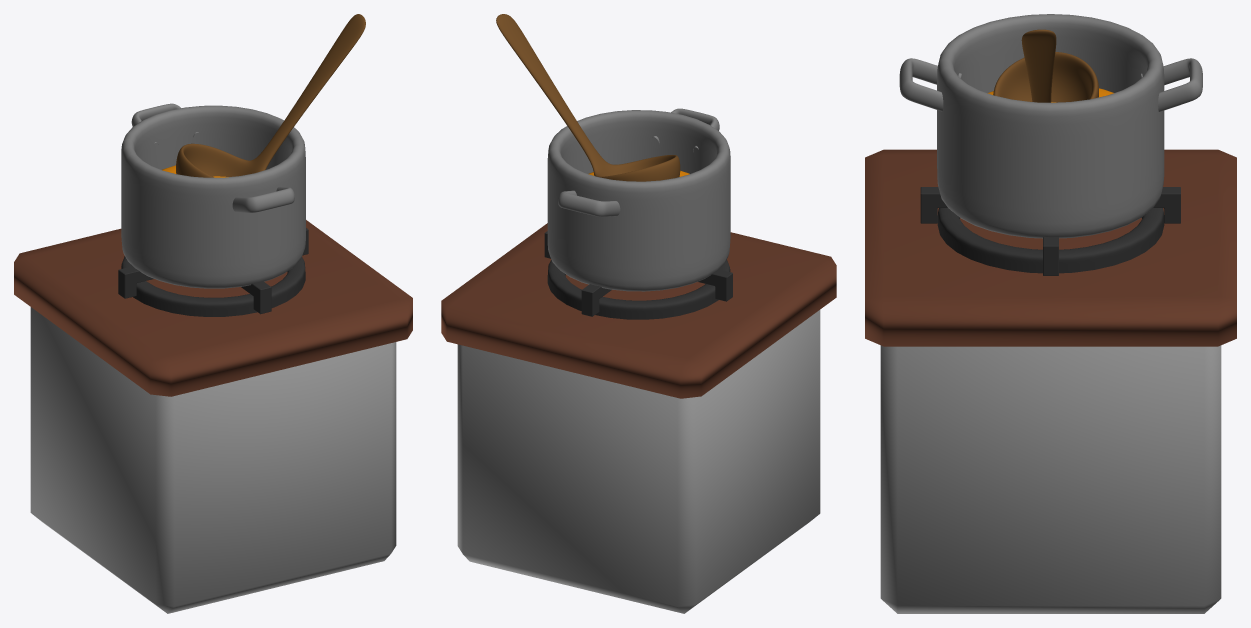
The model's file is ramentower.fbx.
The picture shows the model from 3 angles, left to right: view 1: azimuth 30°, elevation 25°; view 2: azimuth 150°, elevation 25°; view 3: azimuth 270°, elevation 25°; orthographic projection. The views are drawn at different scales.
Parts seen in each view (by area): view 1: Cube, Cube.001, Pot, Sphere, Circle.001, Handle, Cube.002, Cube.005; view 2: Cube, Cube.001, Pot, Sphere, Circle.001, Handle.001, Cube.002, Cube.004; view 3: Cube, Cube.001, Pot, Circle.001, Sphere, Handle.001, Handle, Cube.005, Cube.004, Cube.003.
Part boxes in pixels (left/top/right/bottom): Cube: left=30, top=307, right=396, bottom=613; Cube.001: left=14, top=220, right=412, bottom=396; Pot: left=121, top=105, right=305, bottom=288; Sphere: left=176, top=14, right=365, bottom=177; Circle.001: left=121, top=256, right=305, bottom=316; Handle: left=232, top=186, right=294, bottom=212; Cube.002: left=118, top=266, right=153, bottom=298; Cube.005: left=241, top=281, right=271, bottom=314; Cube: left=457, top=310, right=820, bottom=613; Cube.001: left=441, top=223, right=836, bottom=398; Pot: left=547, top=110, right=730, bottom=291; Sphere: left=496, top=14, right=680, bottom=181; Circle.001: left=547, top=259, right=730, bottom=319; Handle.001: left=558, top=190, right=620, bottom=216; Cube.002: left=698, top=269, right=732, bottom=301; Cube.004: left=581, top=284, right=611, bottom=316; Cube: left=880, top=345, right=1221, bottom=613; Cube.001: left=865, top=149, right=1236, bottom=346; Pot: left=937, top=14, right=1164, bottom=238; Circle.001: left=937, top=208, right=1164, bottom=273; Sphere: left=993, top=29, right=1098, bottom=102; Handle.001: left=1141, top=58, right=1202, bottom=111; Handle: left=899, top=58, right=961, bottom=111; Cube.005: left=920, top=187, right=947, bottom=223; Cube.004: left=1153, top=187, right=1180, bottom=223; Cube.003: left=1043, top=237, right=1058, bottom=275.
Bounding box in the file's own units: 230 × 392 × 218.
